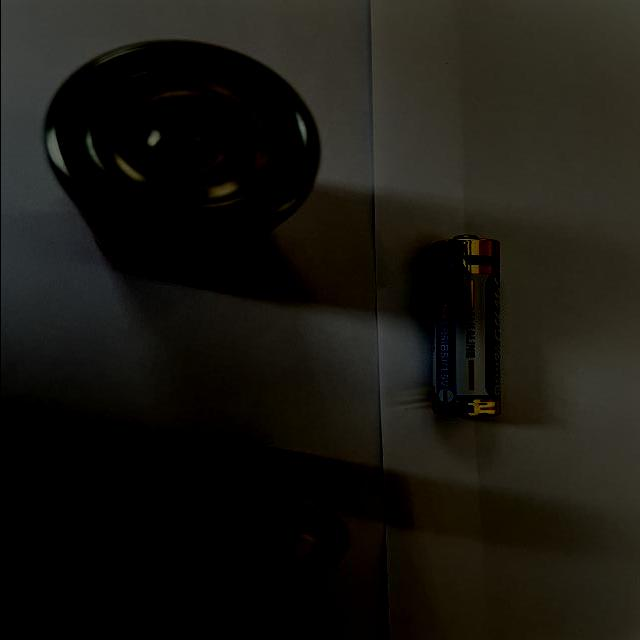AA: (214, 445, 350, 581), (428, 232, 504, 418)
